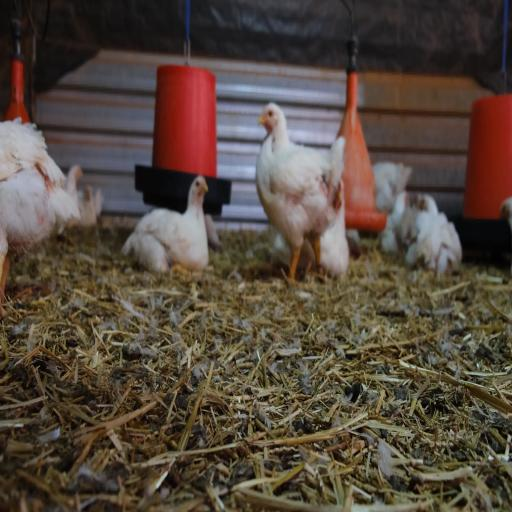healthy: (253, 86, 290, 148), (190, 166, 218, 214)
